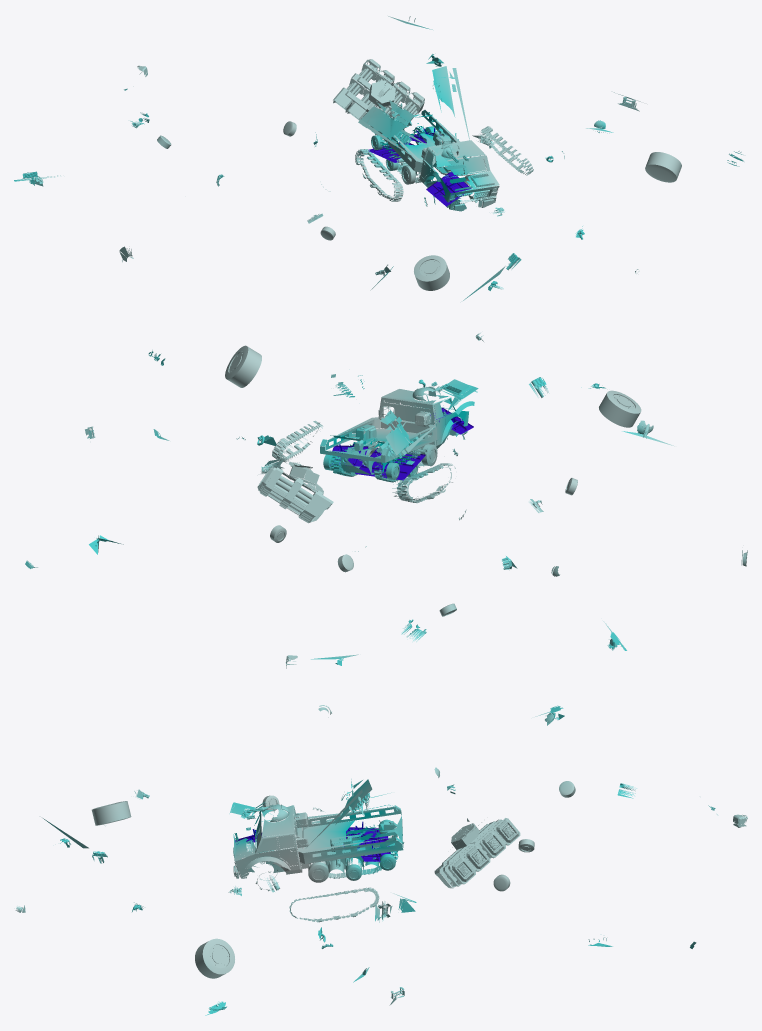
Rendered from swarmlrmc_wreck.glb.
3 views of the same model, one above another, from view 1: azimuth 30°, elevation 25°; view 2: azimuth 150°, elevation 25°; view 3: azimuth 270°, elevation 25° (orthographic). The views are drawn at different scales.
Parts seen in each view (by area): view 1: Srmc, Srmc_plate (×2), SRM_Pack, wrecked_wheel_r0, wrecked_wheel_l0, wrecked_track_r, wrecked_track_l, srmc_turret, frame; view 2: Srmc, SRM_Pack, Srmc_plate (×2), wrecked_wheel_r0, wrecked_wheel_l0, wrecked_track_l, wrecked_track_r; view 3: Srmc, SRM_Pack, wrecked_wheel_l0, Srmc_plate, wrecked_wheel_r0, wrecked_track_l.
Part boxes in pixels (x1,y1,x2,y2): Srmc: (371, 110, 499, 211); Srmc_plate (×2): (358, 66, 469, 156); SRM_Pack: (333, 59, 424, 139); wrecked_wheel_r0: (414, 255, 449, 290); wrecked_wheel_l0: (645, 152, 681, 182); wrecked_track_r: (355, 149, 403, 201); wrecked_track_l: (480, 126, 533, 175); srmc_turret: (369, 69, 410, 105); frame: (426, 171, 471, 206); Srmc: (320, 381, 468, 482); SRM_Pack: (257, 467, 333, 523); Srmc_plate (×2): (376, 379, 478, 462); wrecked_wheel_r0: (599, 390, 641, 427); wrecked_wheel_l0: (225, 345, 261, 387); wrecked_track_l: (272, 420, 323, 463); wrecked_track_r: (392, 463, 455, 503); Srmc: (233, 804, 404, 891); SRM_Pack: (434, 818, 520, 888); wrecked_wheel_l0: (195, 938, 234, 978); Srmc_plate: (306, 779, 372, 847); wrecked_wheel_r0: (91, 801, 131, 825); wrecked_track_l: (289, 887, 379, 922).
Bounding box in the file's own units: 34.42 × 5.87 × 34.9.
